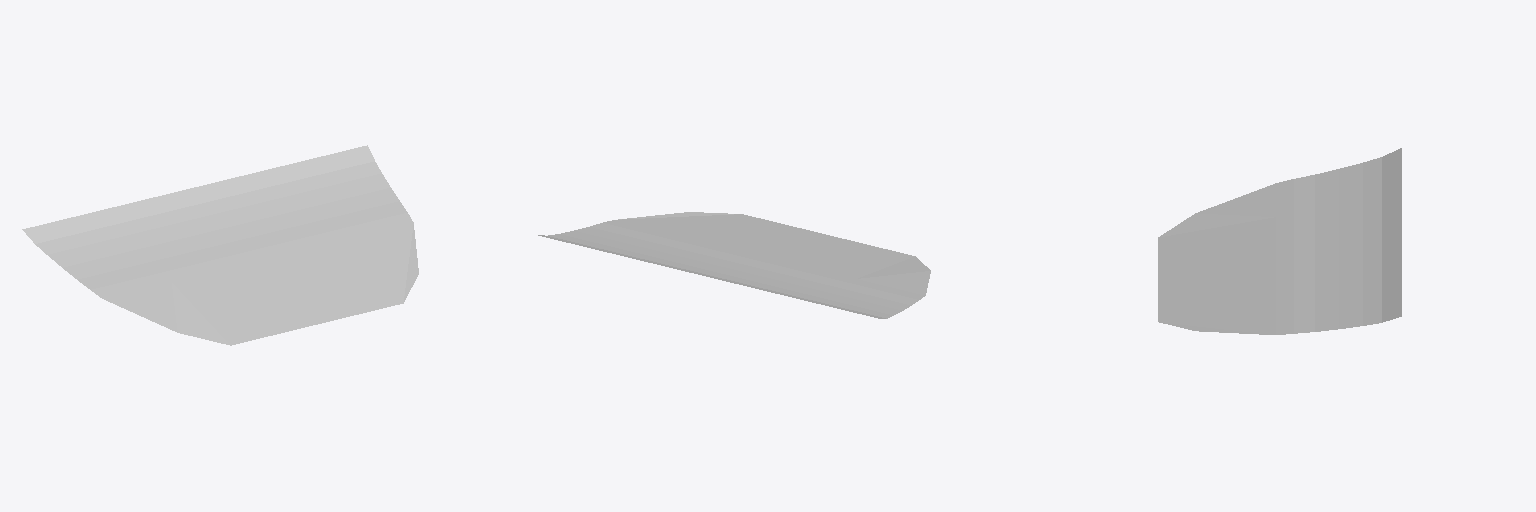
File: TruckHood.obj
The picture shows the model from 3 angles: view 1: azimuth 30°, elevation 25°; view 2: azimuth 150°, elevation 25°; view 3: azimuth 270°, elevation 25°; orthographic projection.
Parts seen in each view (by area): view 1: pasted__polySurface268 pasted__pCube16 group19; view 2: pasted__polySurface268 pasted__pCube16 group19; view 3: pasted__polySurface268 pasted__pCube16 group19.
Part boxes in pixels (bbox=[...]): pasted__polySurface268 pasted__pCube16 group19: bbox=[22, 145, 418, 345]; pasted__polySurface268 pasted__pCube16 group19: bbox=[538, 212, 930, 318]; pasted__polySurface268 pasted__pCube16 group19: bbox=[1158, 148, 1401, 334].
Bounding box in the file's own units: 1.09 × 0.144 × 0.666.